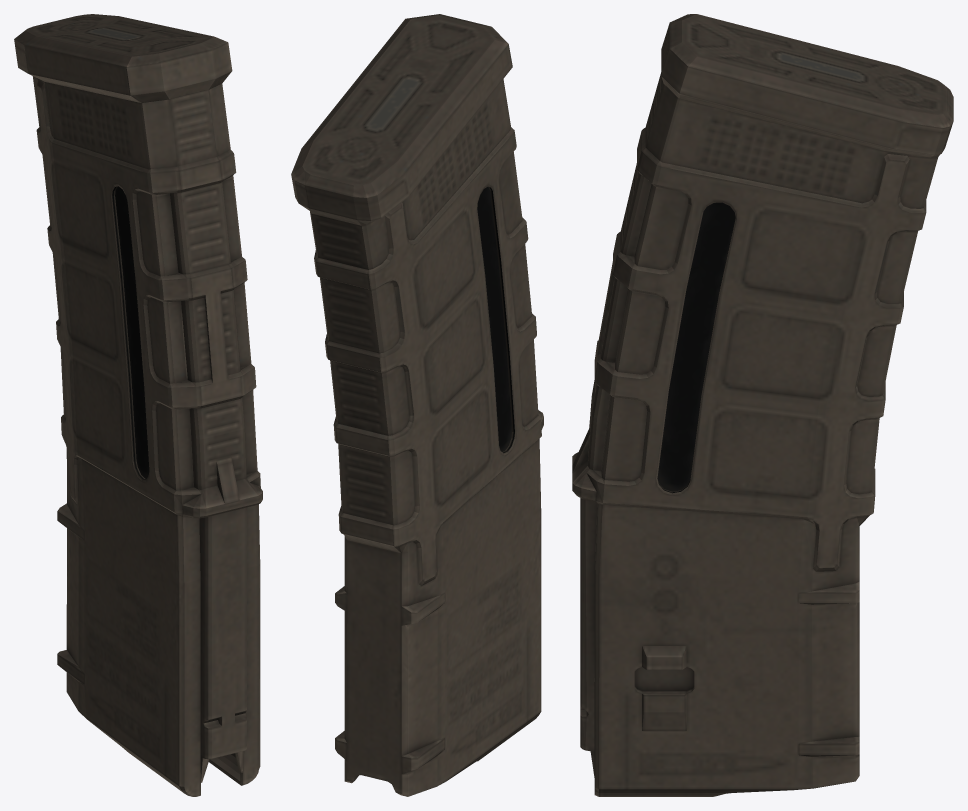
The picture shows the model from 3 angles, left to right: view 1: azimuth 30°, elevation 25°; view 2: azimuth 150°, elevation 25°; view 3: azimuth 270°, elevation 25°; orthographic projection. The views are drawn at different scales.
Visible parts, largest first — view 1: TW_5d1340cad7ad1a0b0b249869_PZ_Import; view 2: TW_5d1340cad7ad1a0b0b249869_PZ_Import; view 3: TW_5d1340cad7ad1a0b0b249869_PZ_Import.
Part boxes in pixels (x1,y1,x2,y2): TW_5d1340cad7ad1a0b0b249869_PZ_Import: (14,14,262,796); TW_5d1340cad7ad1a0b0b249869_PZ_Import: (291,14,543,796); TW_5d1340cad7ad1a0b0b249869_PZ_Import: (572,14,953,796).
Bounding box in the file's own units: 0.0163 × 0.0503 × 0.1096.
1 material, 1 textured.
